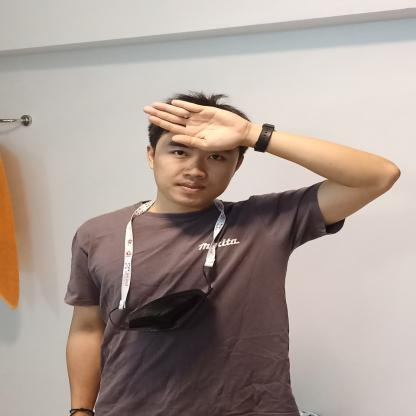Sick: (130, 91, 403, 227)
